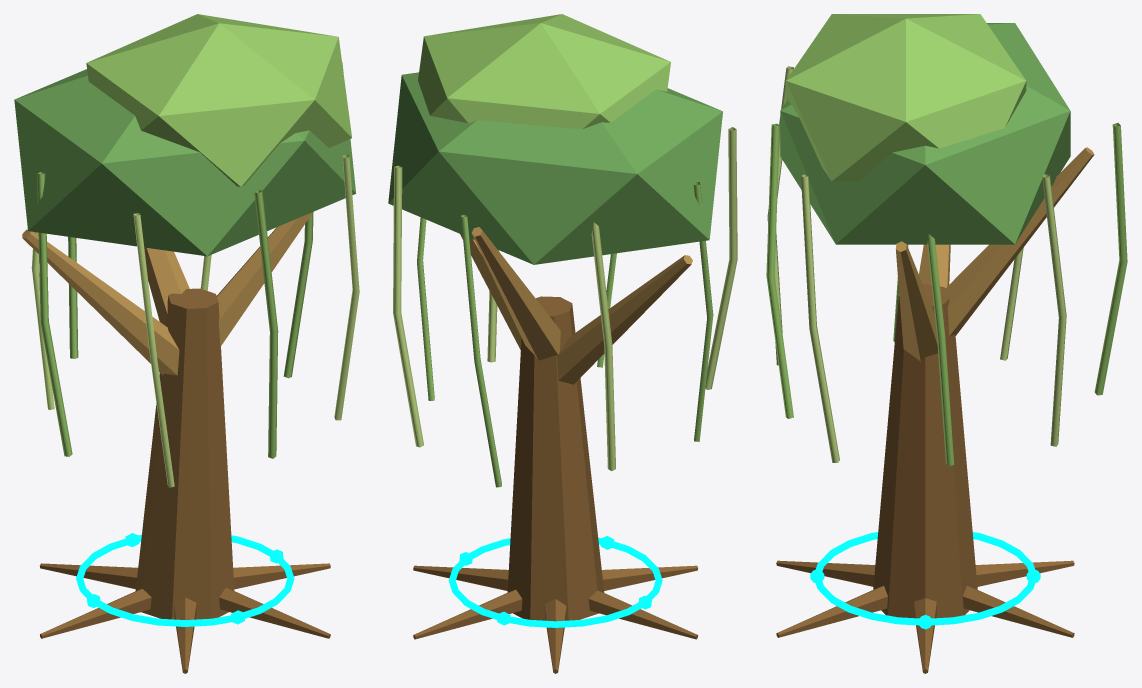
The model's file is growing.glb.
3 renders of one model, left to right at view 1: azimuth 30°, elevation 25°; view 2: azimuth 150°, elevation 25°; view 3: azimuth 270°, elevation 25°, orthographic. The views are drawn at different scales.
Visible parts, largest first — view 1: Willow_Crown, Willow_Crown_Light, Willow_Trunk, Willow_Branch_01, Willow_Branch_02, Chrono_Energy_Ring, Willow_Frond_07, Willow_Frond_05, Willow_Frond_08, Willow_Frond_06, Willow_Branch_03, Root_04 (+7 smaller); view 2: Willow_Crown, Willow_Crown_Light, Willow_Trunk, Willow_Branch_01, Willow_Branch_03, Chrono_Energy_Ring, Willow_Frond_02, Willow_Frond_06, Willow_Frond_04, Willow_Frond_03, Willow_Frond_05, Root_04 (+7 smaller); view 3: Willow_Crown_Light, Willow_Crown, Willow_Trunk, Willow_Branch_03, Willow_Branch_02, Chrono_Energy_Ring, Willow_Frond_07, Willow_Frond_08, Willow_Frond_03, Willow_Frond_02, Willow_Frond_01, Root_06 (+7 smaller).
Boxes of the visible parts, x1=… form: Willow_Crown: x1=14, y1=62, x2=356, y2=256; Willow_Crown_Light: x1=86, y1=14, x2=351, y2=186; Willow_Trunk: x1=135, y1=288, x2=234, y2=619; Willow_Branch_01: x1=22, y1=229, x2=179, y2=375; Willow_Branch_02: x1=216, y1=212, x2=312, y2=346; Chrono_Energy_Ring: x1=76, y1=535, x2=294, y2=626; Willow_Frond_07: x1=254, y1=190, x2=278, y2=458; Willow_Frond_05: x1=37, y1=172, x2=72, y2=456; Willow_Frond_08: x1=334, y1=154, x2=359, y2=420; Willow_Frond_06: x1=133, y1=213, x2=174, y2=487; Willow_Branch_03: x1=144, y1=247, x2=189, y2=325; Root_04: x1=40, y1=589, x2=151, y2=638; Willow_Crown: x1=388, y1=72, x2=722, y2=264; Willow_Crown_Light: x1=418, y1=14, x2=670, y2=129; Willow_Trunk: x1=507, y1=296, x2=604, y2=620; Willow_Branch_01: x1=557, y1=255, x2=692, y2=384; Willow_Branch_03: x1=471, y1=227, x2=560, y2=360; Chrono_Energy_Ring: x1=448, y1=537, x2=662, y2=627; Willow_Frond_02: x1=393, y1=165, x2=423, y2=447; Willow_Frond_06: x1=705, y1=127, x2=737, y2=389; Willow_Frond_04: x1=591, y1=222, x2=615, y2=471; Willow_Frond_03: x1=461, y1=215, x2=501, y2=487; Willow_Frond_05: x1=693, y1=182, x2=713, y2=441; Root_04: x1=588, y1=590, x2=698, y2=639; Willow_Crown_Light: x1=785, y1=14, x2=1026, y2=181; Willow_Crown: x1=780, y1=23, x2=1070, y2=244; Willow_Trunk: x1=873, y1=283, x2=977, y2=618; Willow_Branch_03: x1=941, y1=147, x2=1094, y2=336; Willow_Branch_02: x1=895, y1=241, x2=938, y2=361; Chrono_Energy_Ring: x1=814, y1=532, x2=1036, y2=625; Willow_Frond_07: x1=766, y1=123, x2=793, y2=418; Willow_Frond_08: x1=801, y1=174, x2=839, y2=462; Willow_Frond_03: x1=1094, y1=123, x2=1127, y2=395; Willow_Frond_02: x1=1042, y1=174, x2=1066, y2=446; Willow_Frond_01: x1=927, y1=234, x2=954, y2=466; Root_06: x1=776, y1=586, x2=887, y2=637.
Size of the model in its own units: 1.54 by 2.72 by 1.49.
